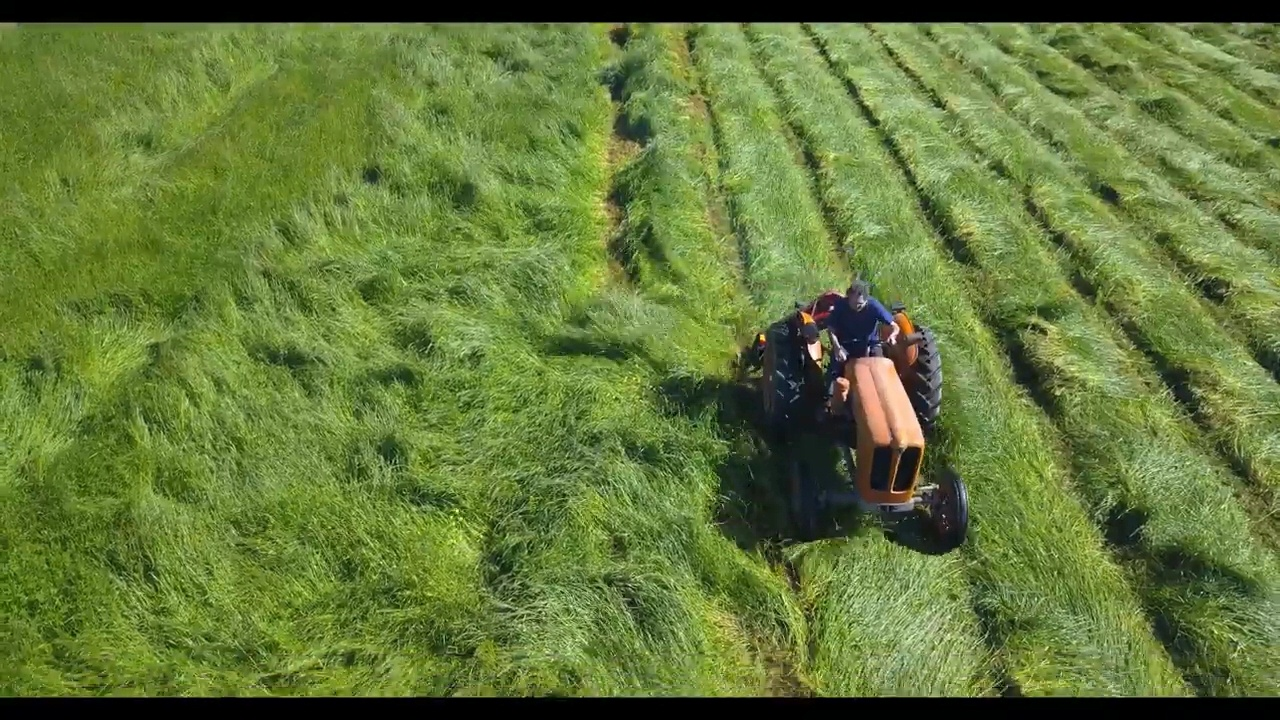insan: (826, 280, 897, 360)
traktor: (755, 304, 974, 560)
